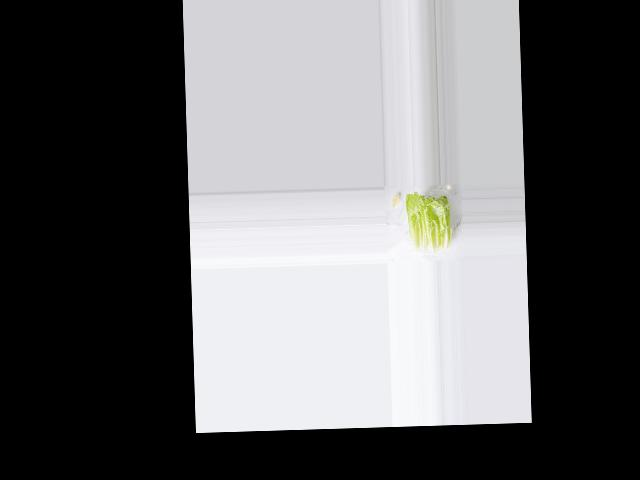lettuce: (403, 189, 454, 252)
